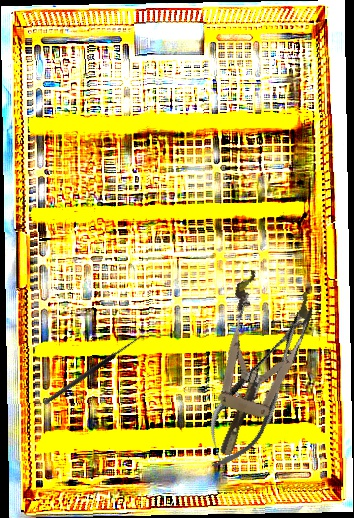Hook Surgical: (39, 327, 146, 406)
Micro Scissor: (189, 300, 327, 481)
Speculum: (186, 267, 319, 467)
